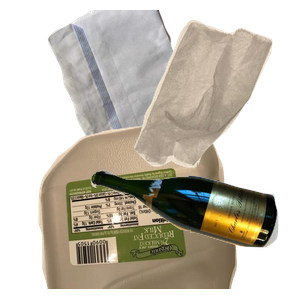glass: (88, 167, 300, 300)
paper: (45, 10, 251, 190)
plastic: (36, 120, 265, 300)
trash: (132, 17, 300, 177)
